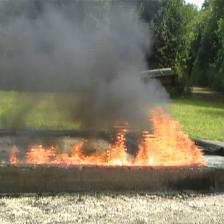fire: (9, 107, 207, 166)
